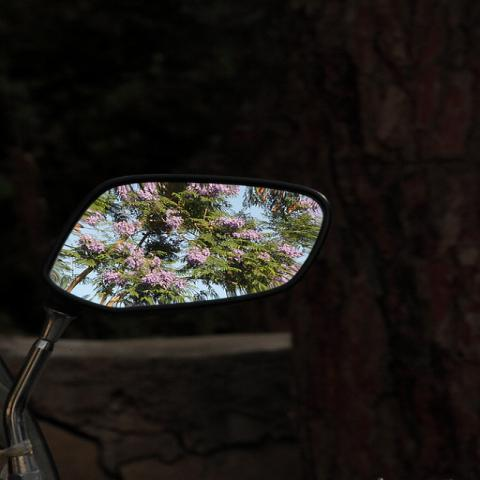motorcycle: (0, 174, 337, 479)
